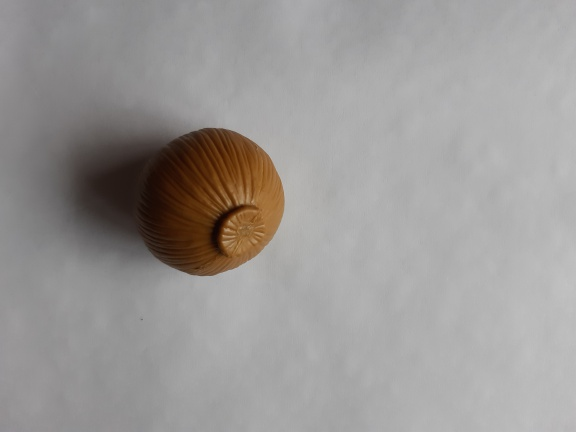onion: (123, 113, 298, 290)
